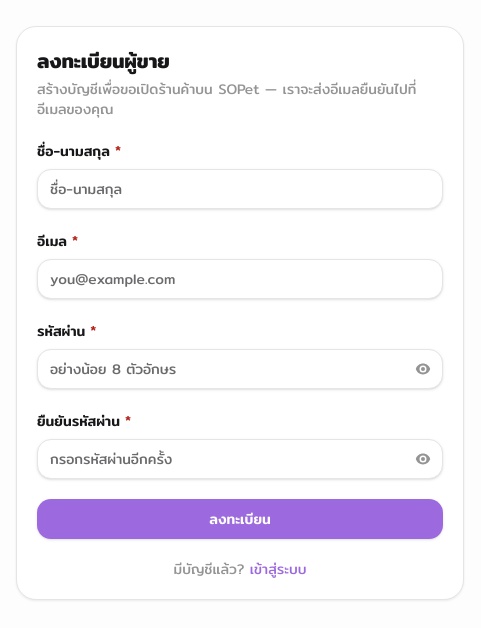
Test: RegisterPage › shows mismatch error when passwords differ
Type "Vendor Name" into the field labelled "ชื่อ-นามสกุล *". click: (240, 189)
box: [37,169,443,209]
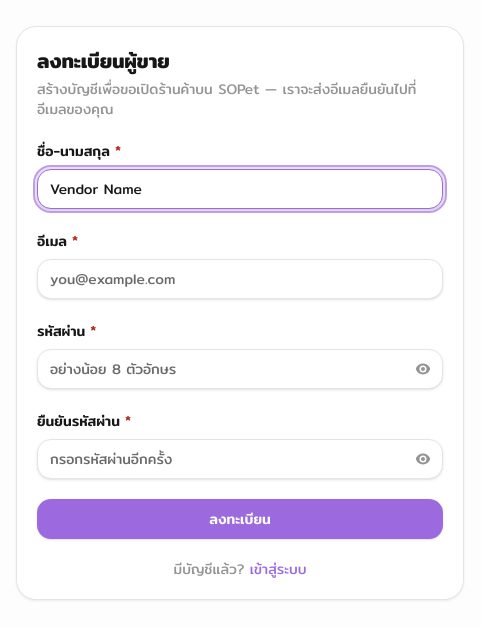
Type "vendor@example.com" into the field labelled "อีเมล *". click: (240, 279)
box: [37,259,443,299]
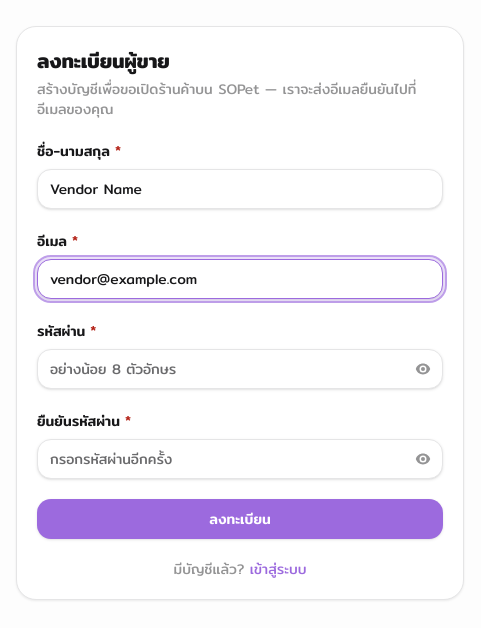
Type "password123" into the password field with placeholder "อย่างน้อย 8 ตัวอักษร". click: (240, 369)
box: [37,349,443,389]
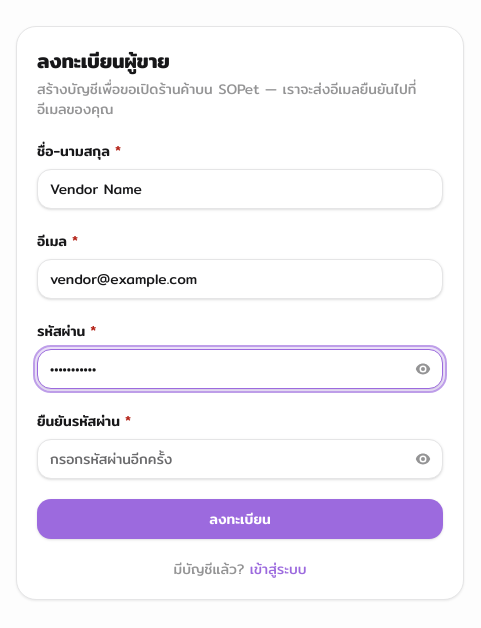
Type "different123" into the password field with placeholder "กรอกรหัสผ่านอีกครั้ง". click: (240, 459)
box: [37,439,443,479]
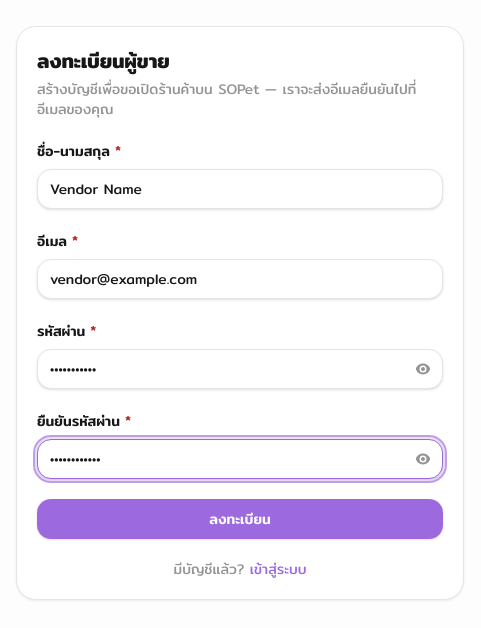
Click the button "ลงทะเบียน". click: (240, 519)
box: [37,499,443,539]
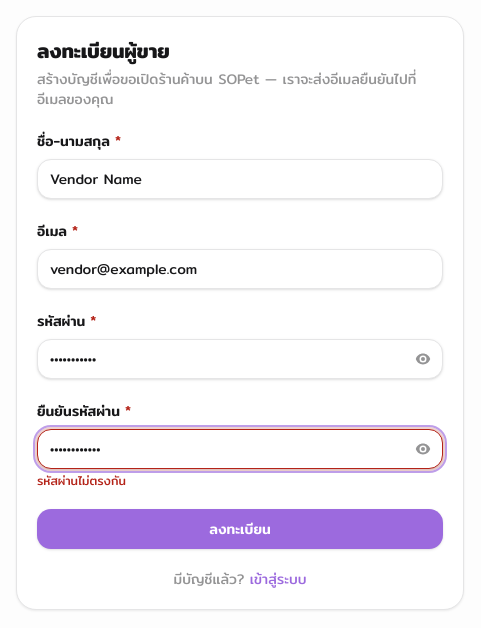
Result: the message reads "รหัสผ่านไม่ตรงกัน" at [37,471,126,490]
